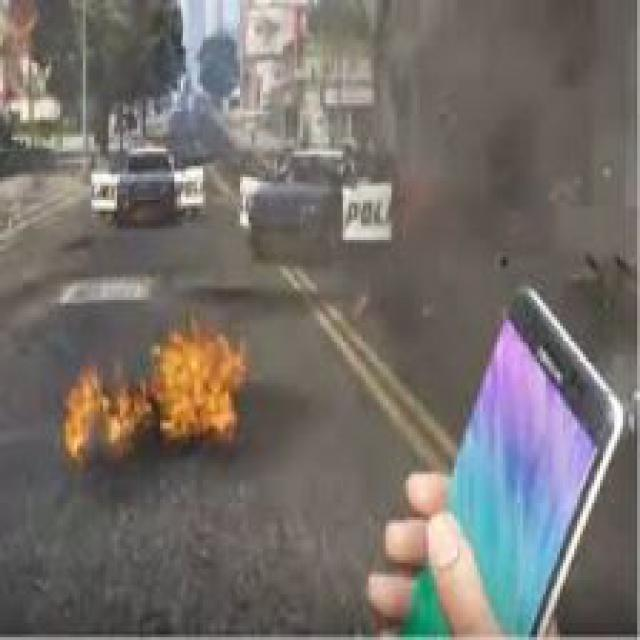fire: (57, 312, 252, 477)
